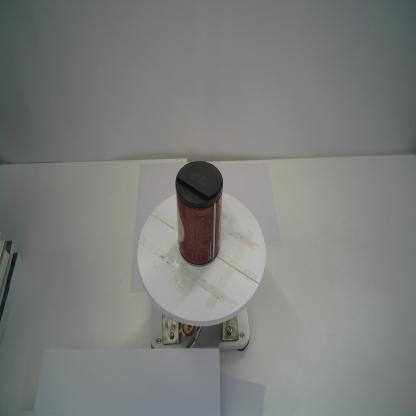Canned Food: (174, 160, 224, 268)
